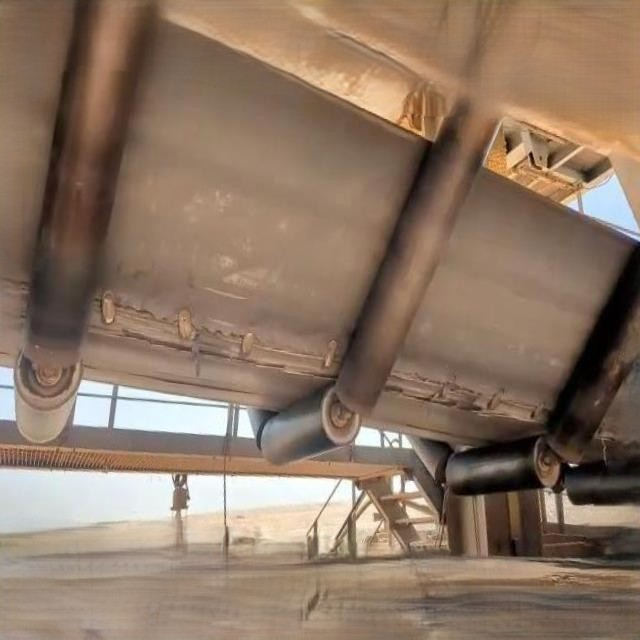Tear: (85, 282, 345, 386), (382, 366, 555, 432), (0, 270, 31, 327)
